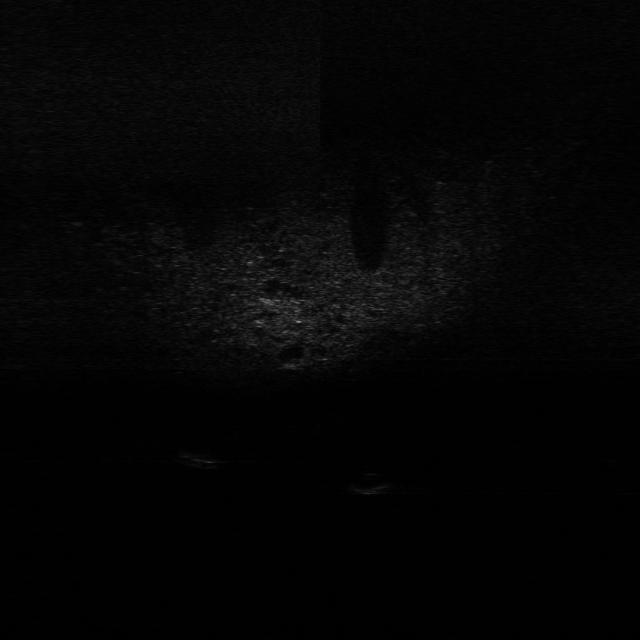ball: (348, 466, 402, 497)
circle cage: (177, 438, 229, 472)
